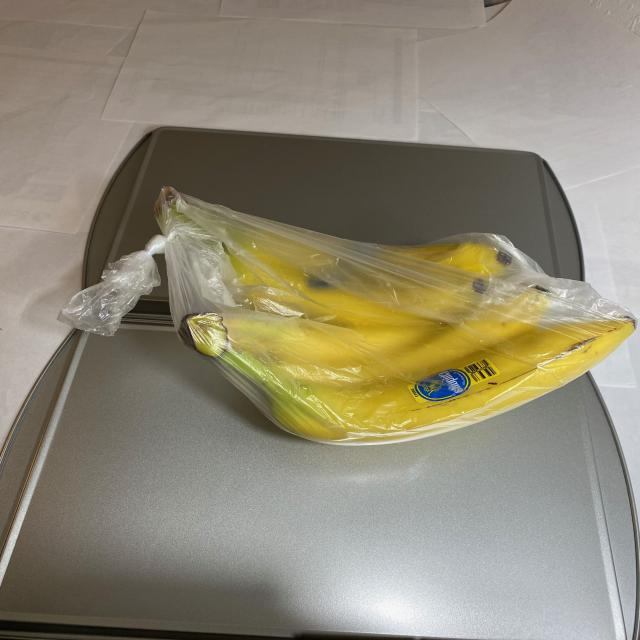banana: (132, 187, 637, 449)
